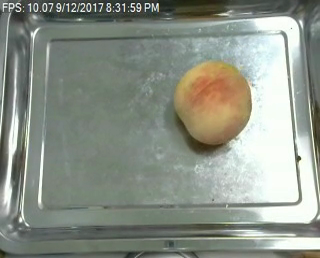Peach: (173, 59, 253, 146)
